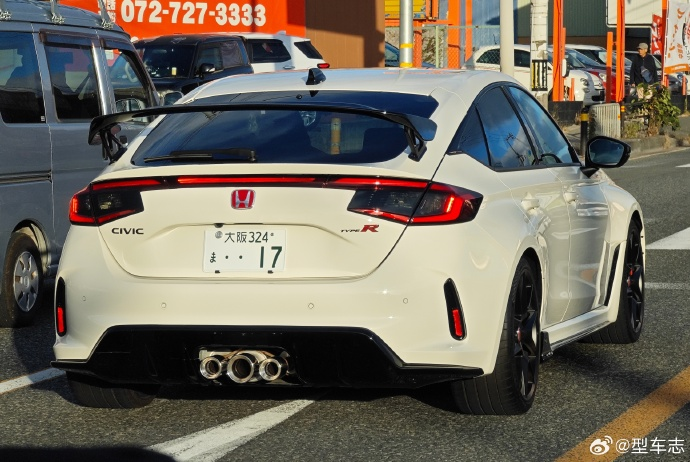other: (52, 69, 646, 417), (468, 41, 598, 105)
